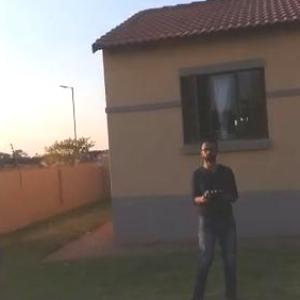follow: (172, 130, 242, 299)
